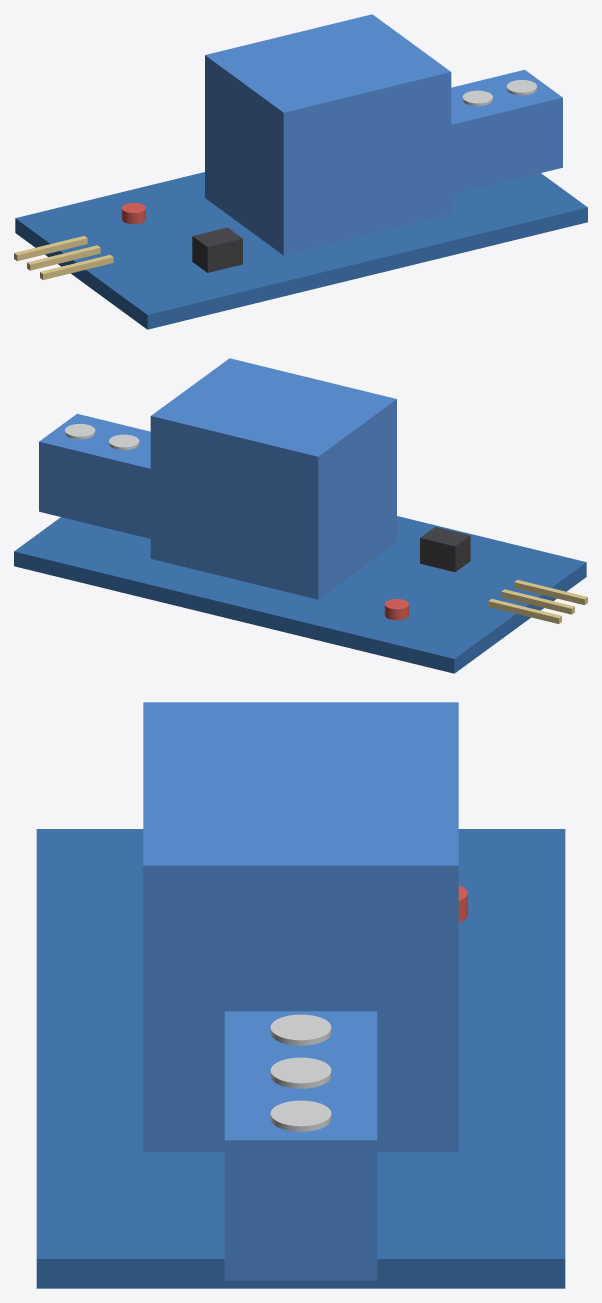
File: relay.glb
The picture shows the model from 3 angles, top to bottom: view 1: azimuth 30°, elevation 25°; view 2: azimuth 150°, elevation 25°; view 3: azimuth 270°, elevation 25°; orthographic projection. The views are drawn at different scales.
Parts seen in each view (by area): view 1: relay, pcb, terminal, driver, pins; view 2: relay, pcb, terminal, driver, pins; view 3: pcb, relay, terminal.
Boxes of the visible parts, x1,y1,x2,y2 form: relay: [205, 14, 451, 255]; pcb: [15, 172, 587, 329]; terminal: [451, 69, 562, 194]; driver: [121, 203, 242, 272]; pins: [14, 236, 113, 279]; relay: [150, 358, 396, 599]; pcb: [14, 516, 586, 673]; terminal: [39, 413, 150, 538]; driver: [384, 527, 470, 620]; pins: [488, 580, 587, 623]; pcb: [36, 829, 565, 1288]; relay: [143, 702, 458, 1151]; terminal: [224, 1011, 377, 1280].
Size of the model in its own units: 0.0585 by 0.0171 by 0.026.
